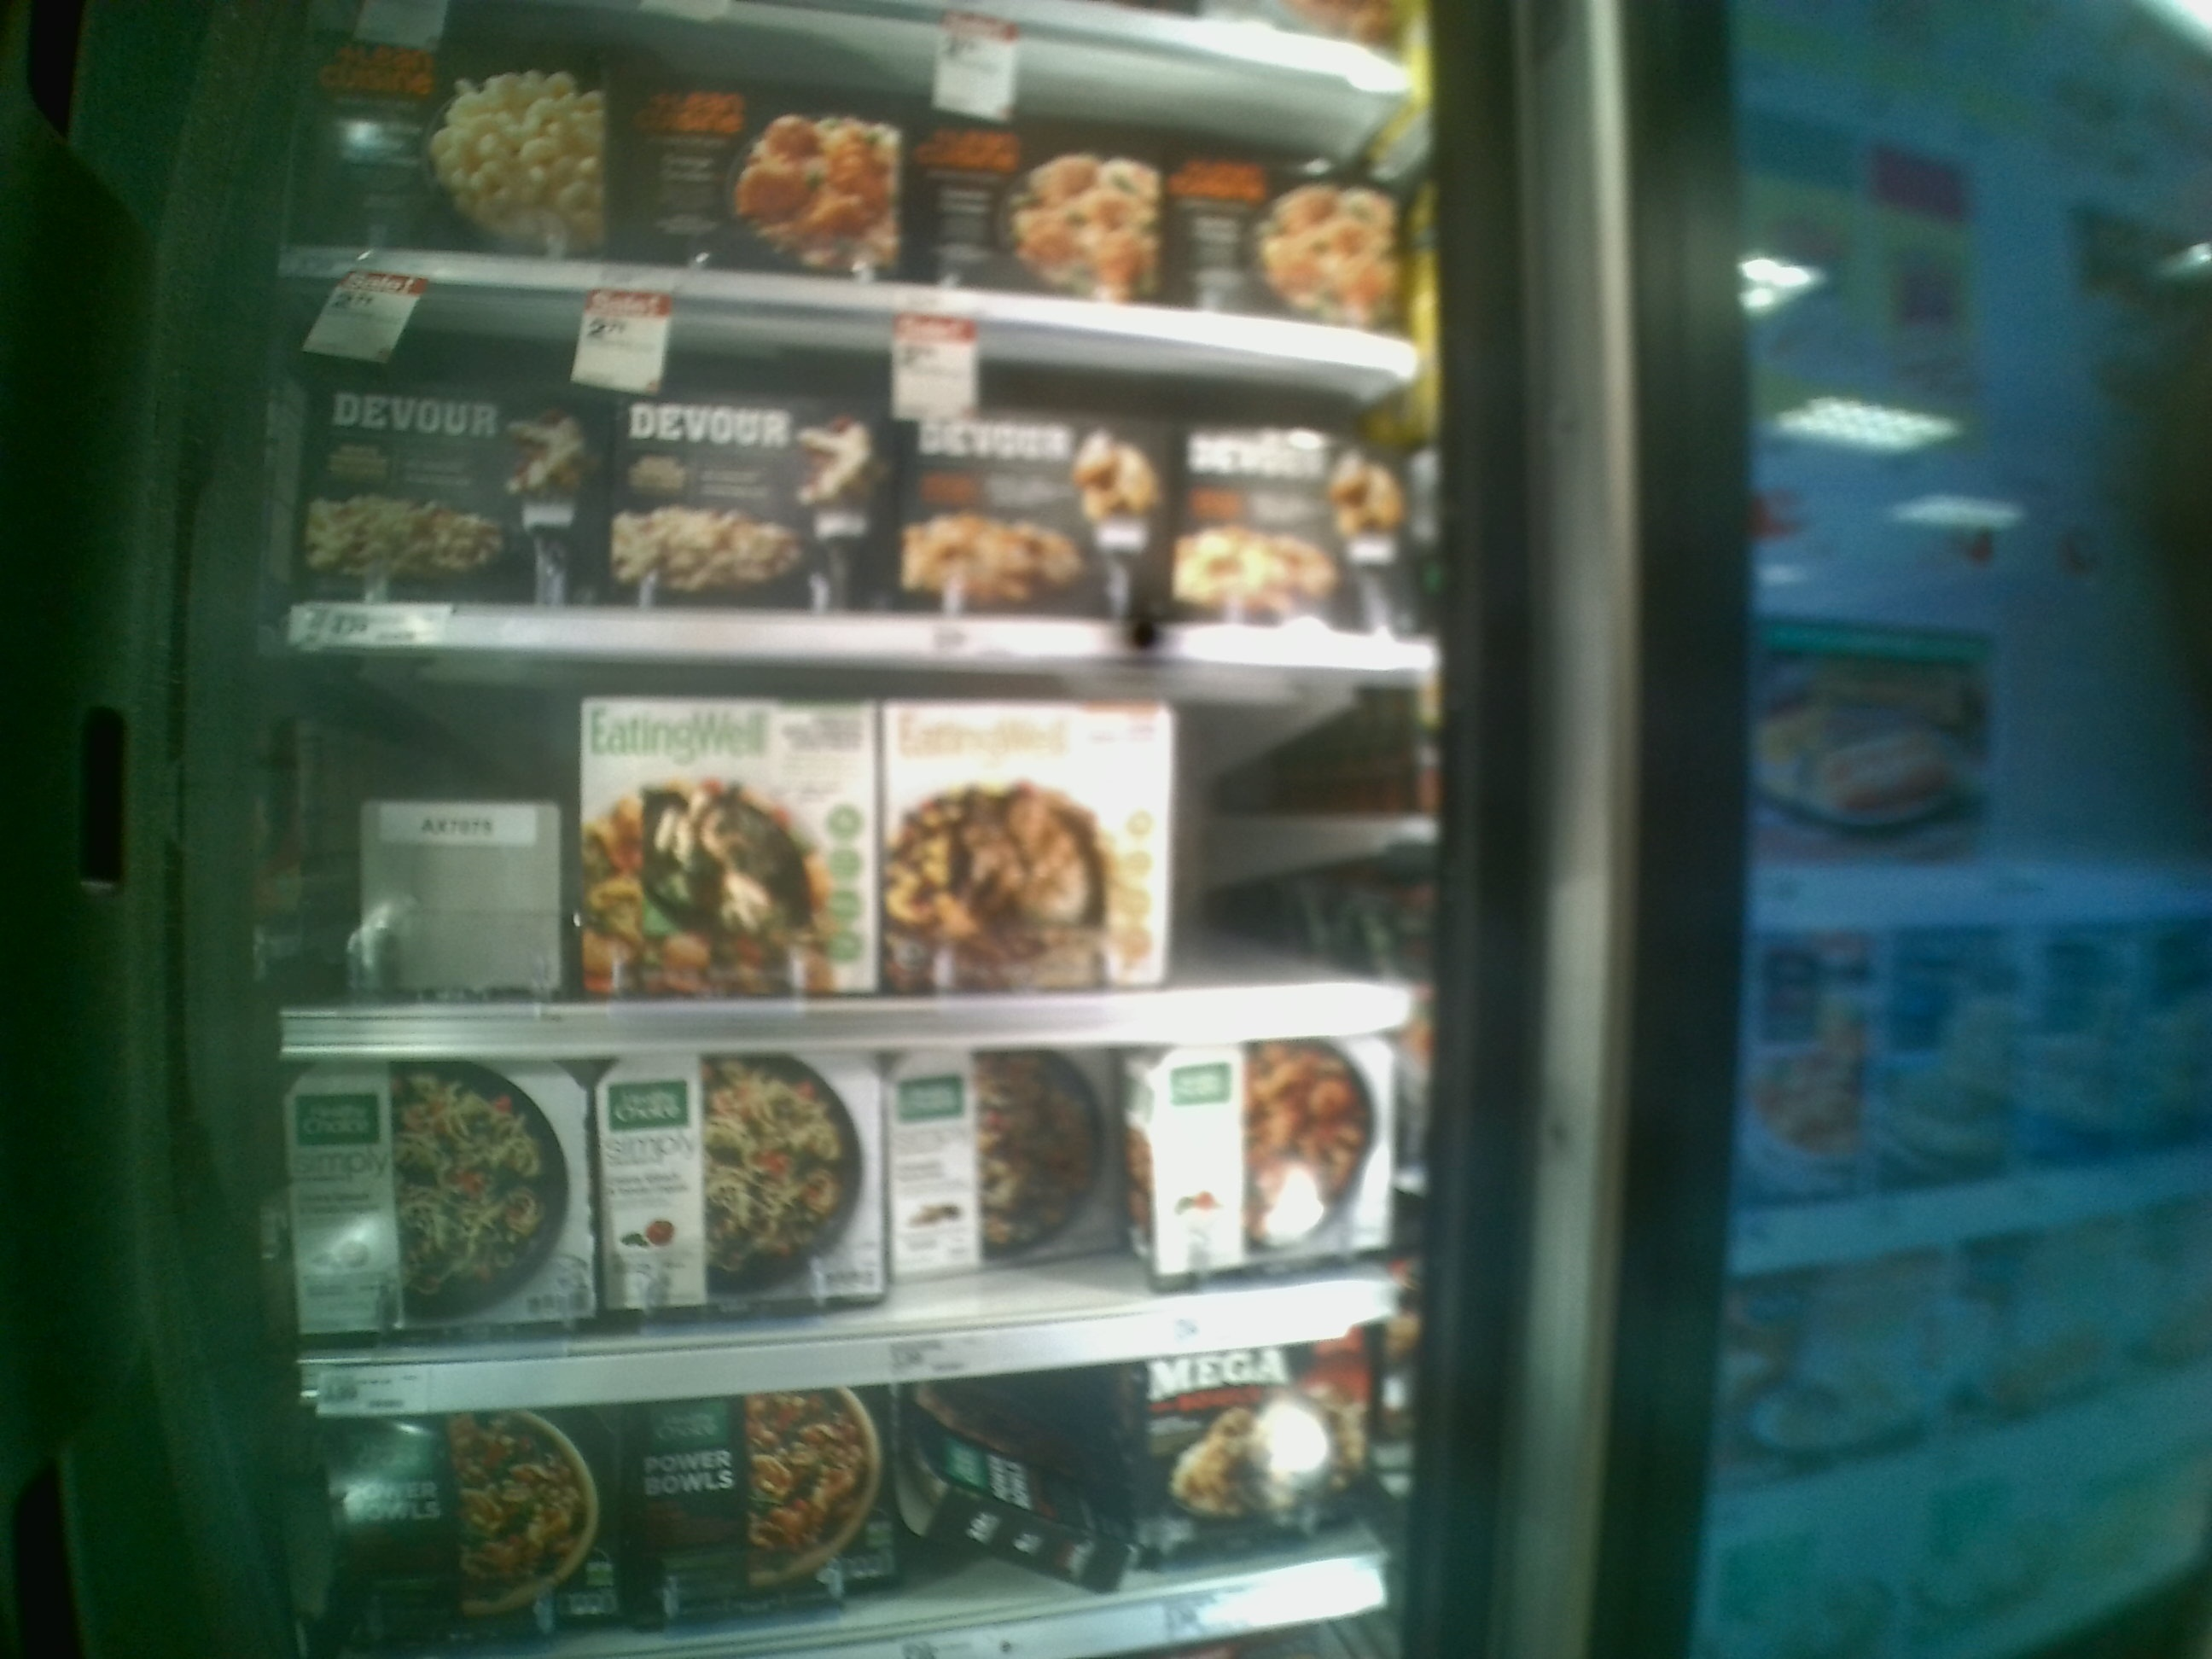shelf: (282, 645, 1430, 1061), (293, 1021, 1428, 1431), (273, 272, 1435, 662)
